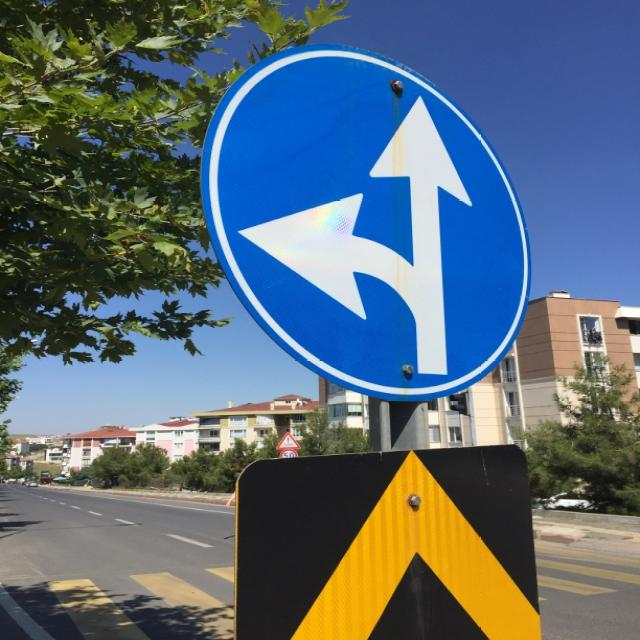ilerisol: (198, 43, 530, 402)
